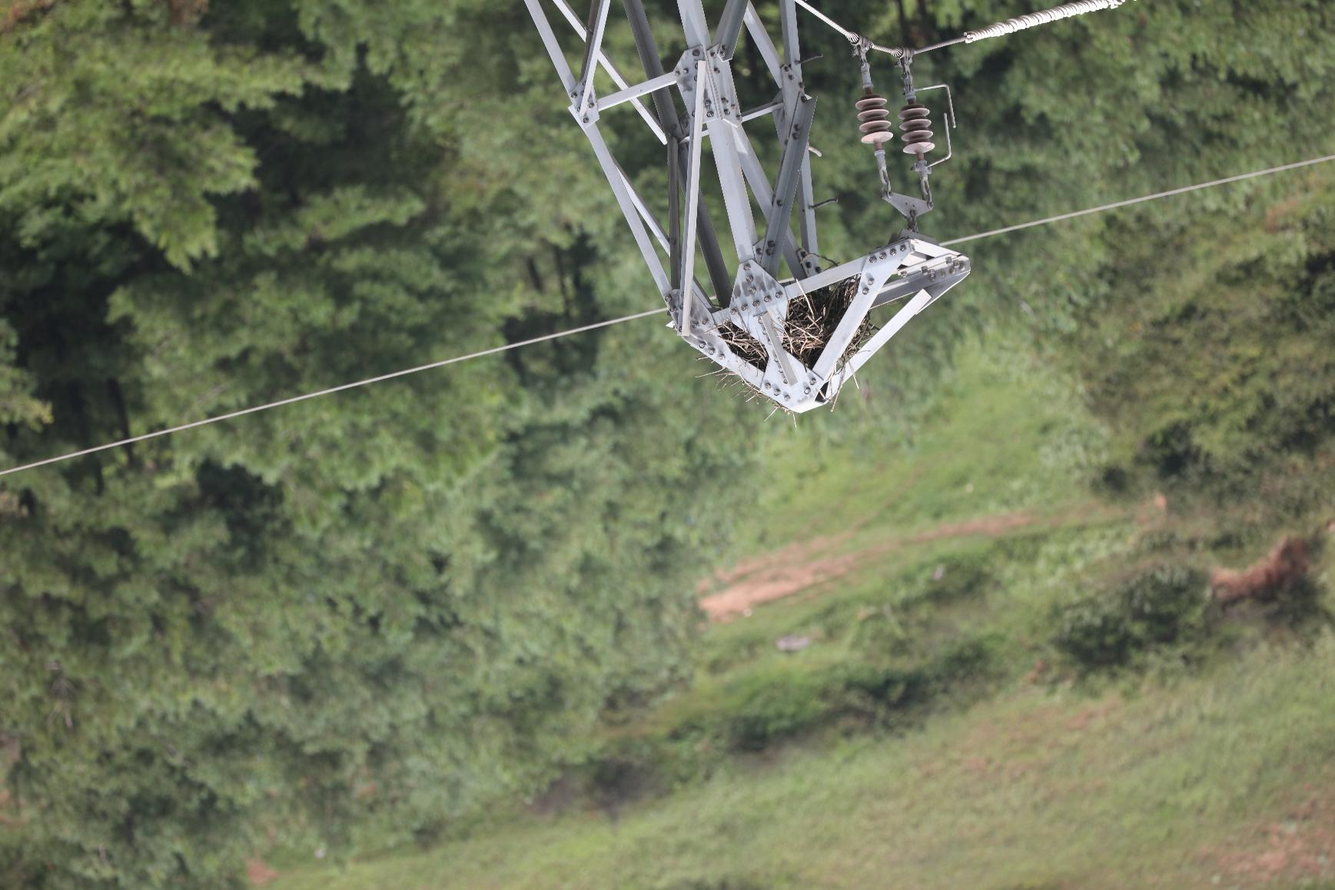nest: (719, 274, 876, 373)
